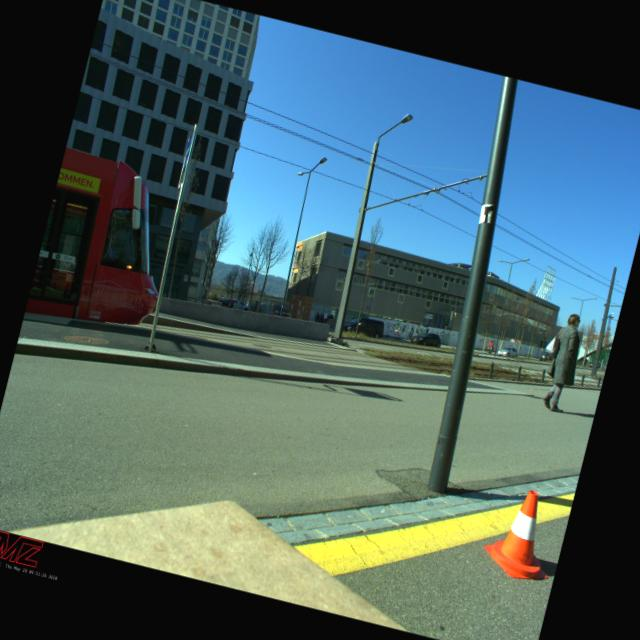orange_cone: (478, 483, 566, 586)
